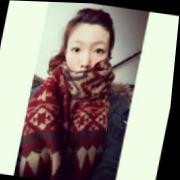WRONG: (62, 34, 112, 88)
